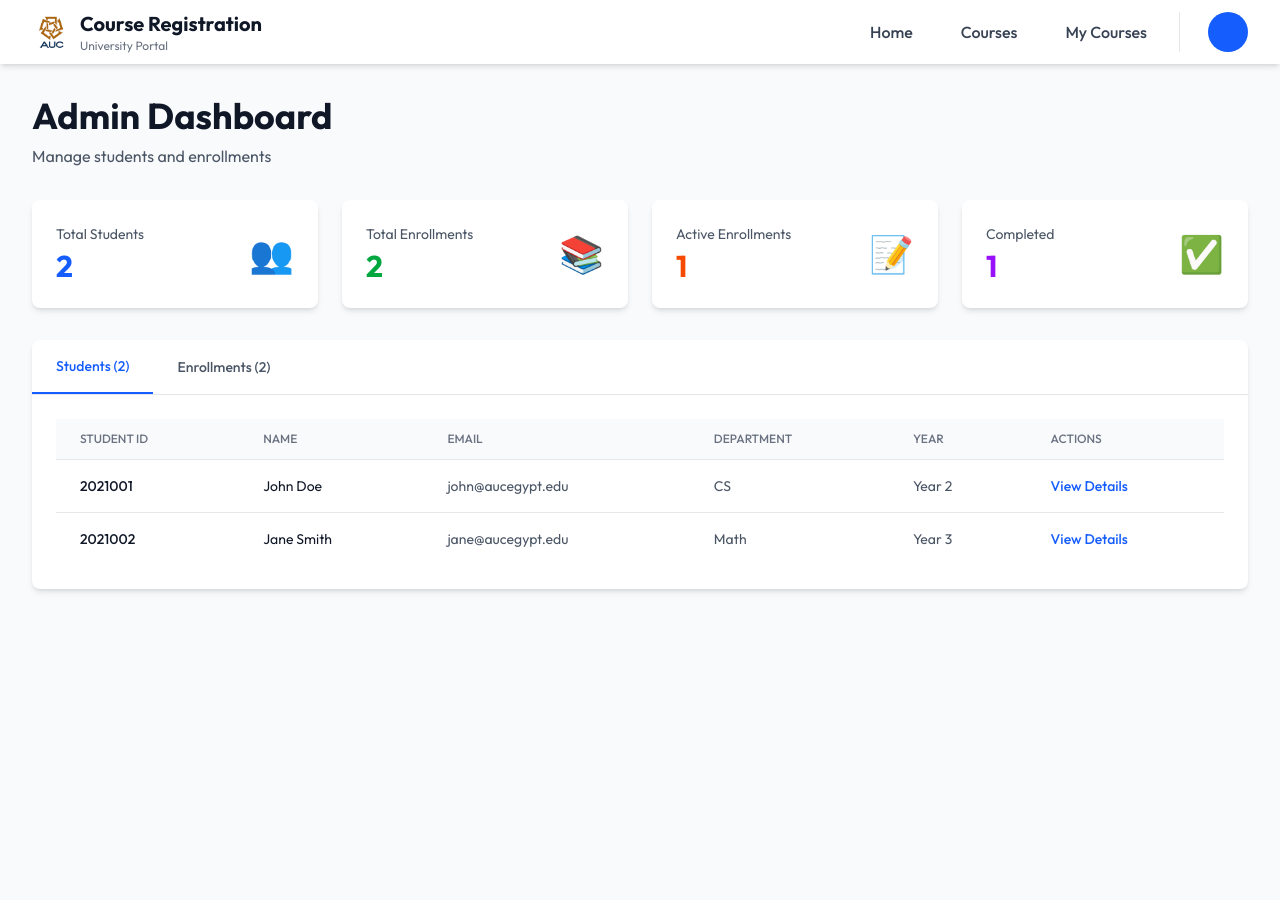
Test: Admin Dashboard › Mark as Complete › should open modal when mark complete is clicked
Expected: the heading "Admin Dashboard" is shown, [32, 93, 332, 138]
Click the button "Enrollments (2)": (224, 367) [154, 340, 294, 394]
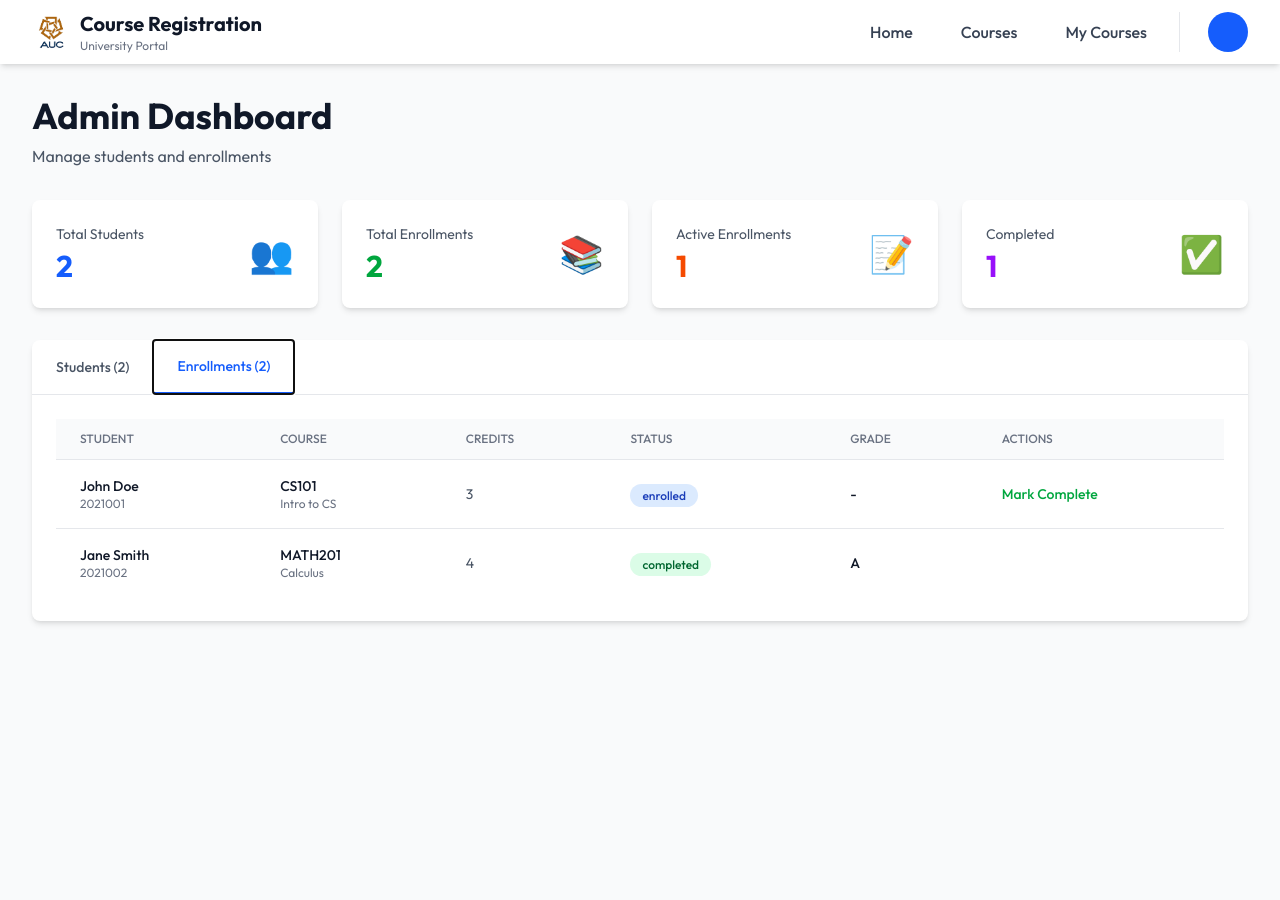
Expected: the button "Mark Complete" is shown
Click the button "Mark Complete": (1050, 494) [1002, 484, 1098, 504]
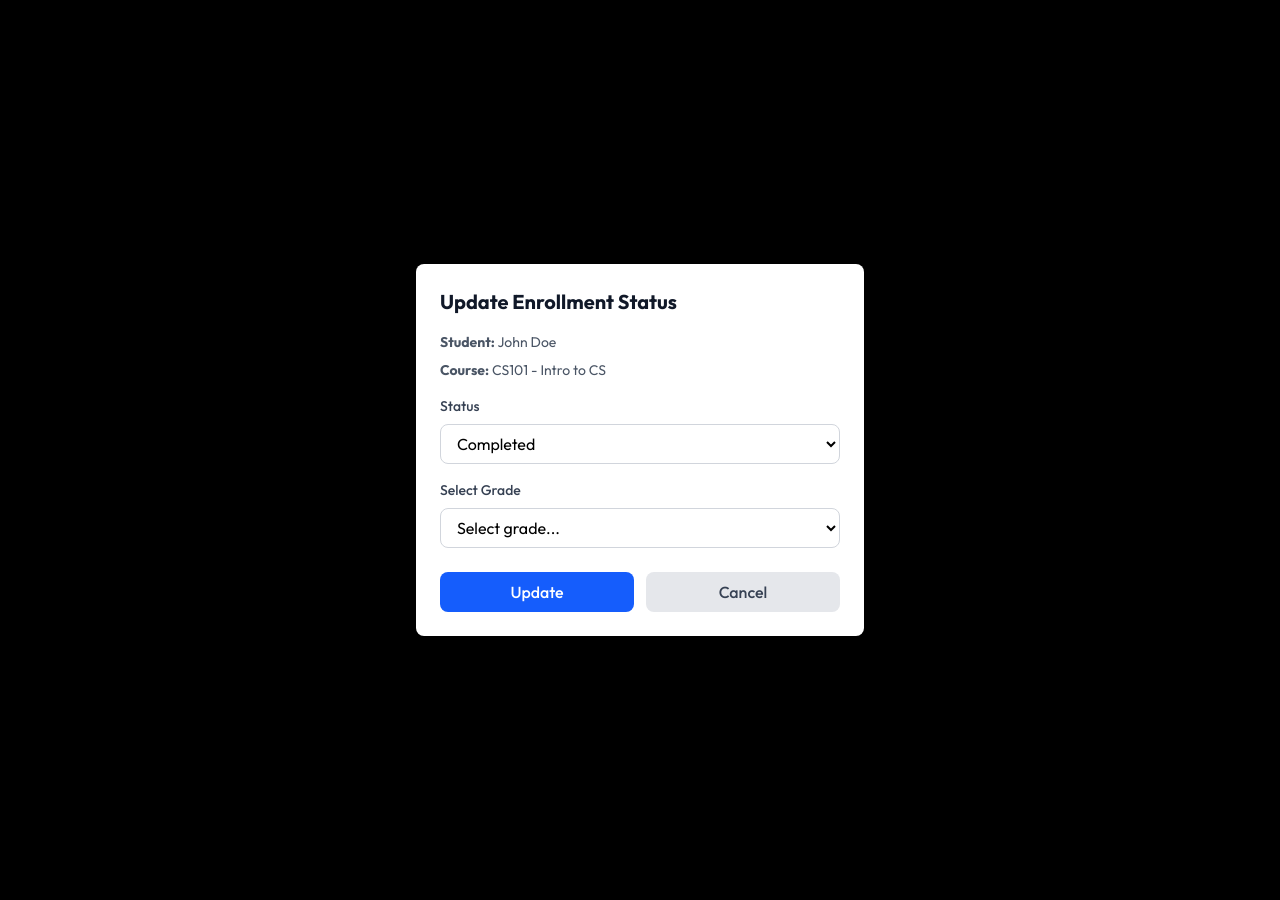
Expected: the heading "Update Enrollment Status" is shown, [440, 289, 677, 314]
